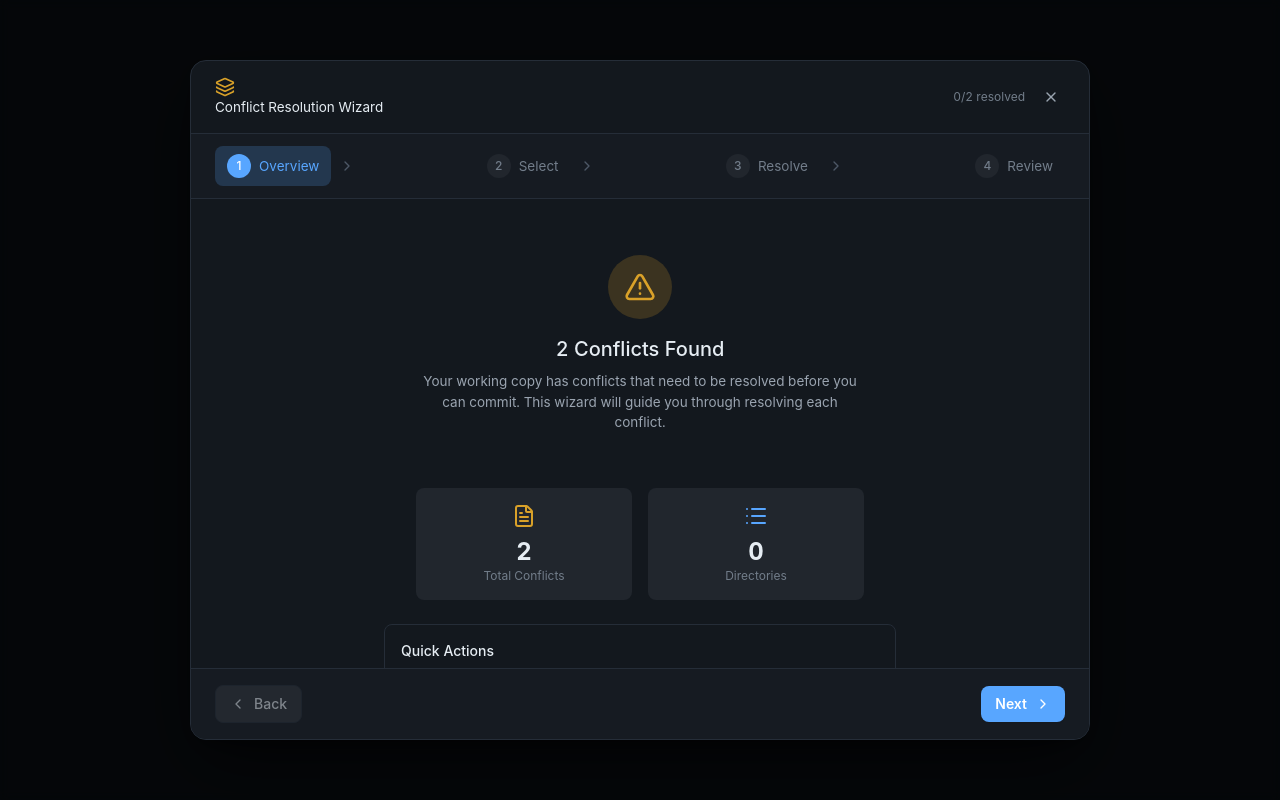
Scenario: conflict resolution workflows › defers, resumes, and navigates a coherent unresolved queue
Click the text "resolve": (783, 166) [758, 156, 808, 176]
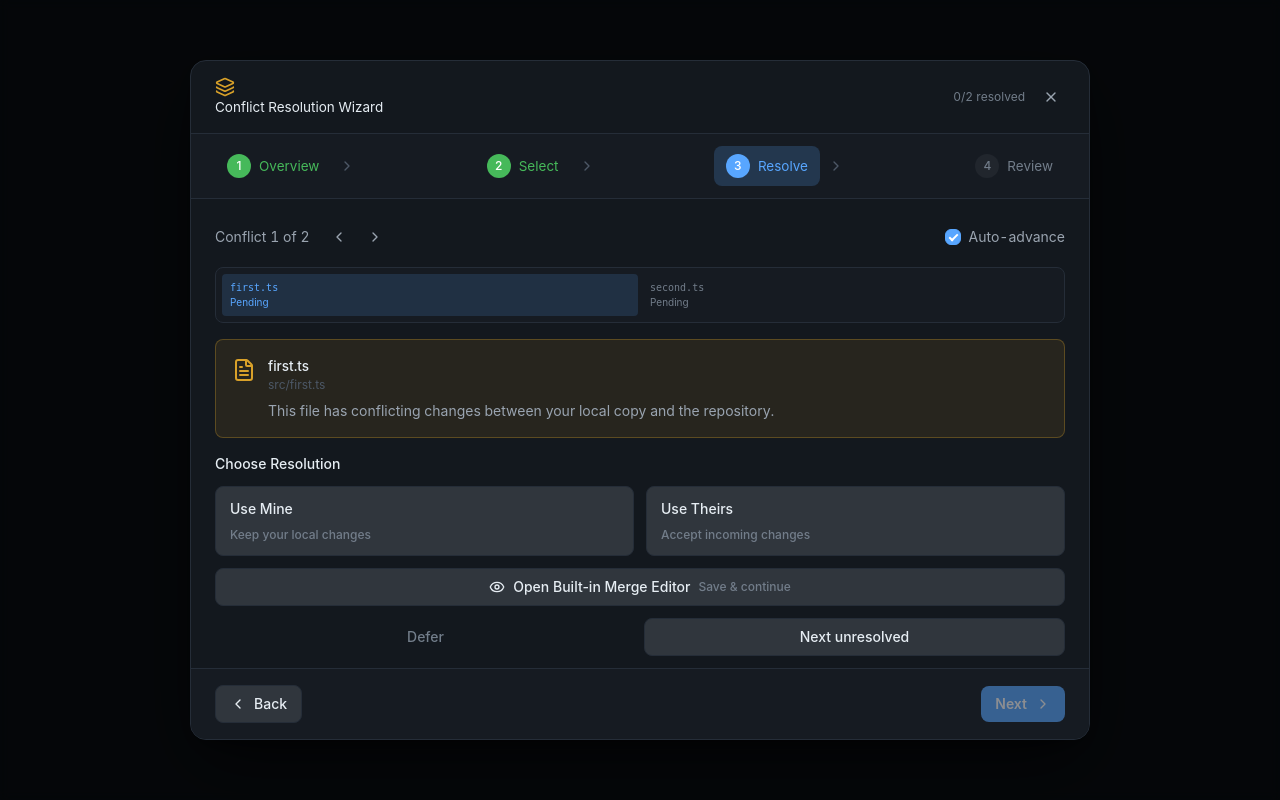
Click the button "Defer": (426, 636) [215, 618, 636, 656]
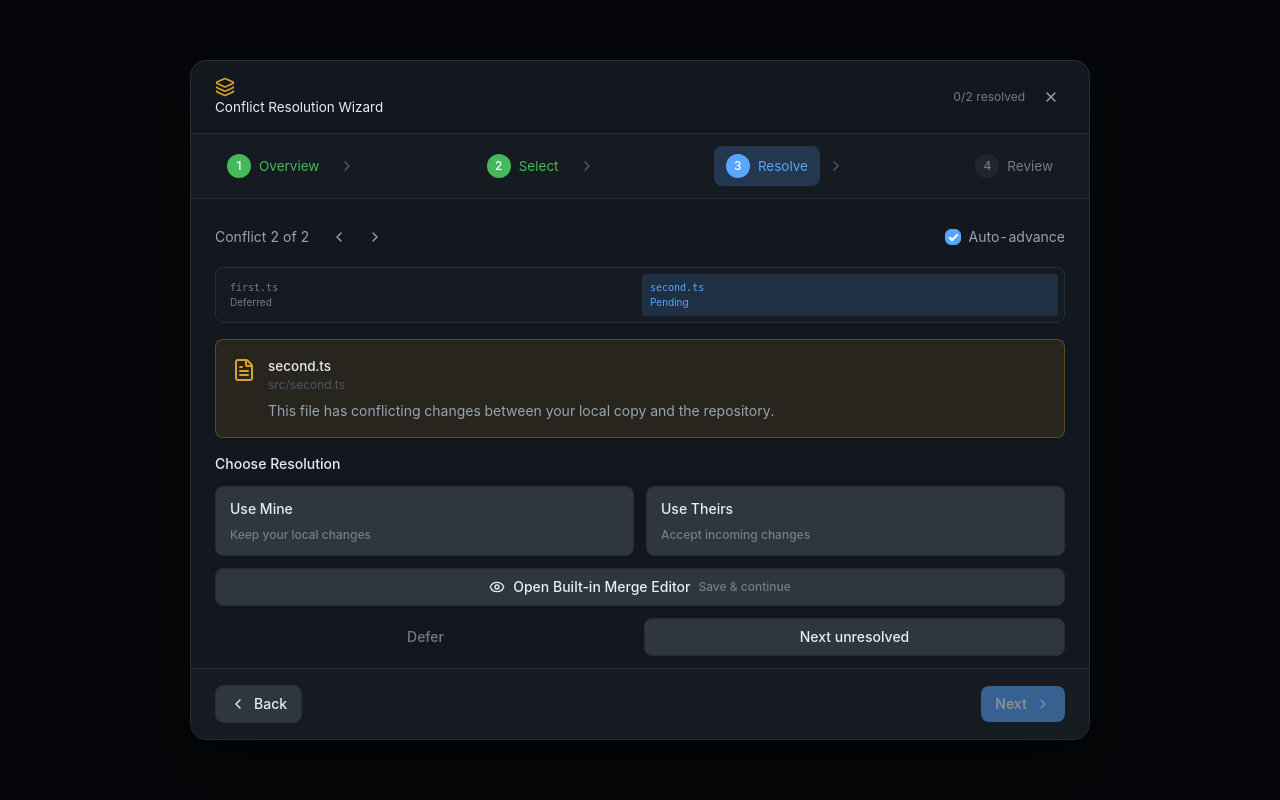
Click the text "review": (1030, 166) [1007, 156, 1053, 176]
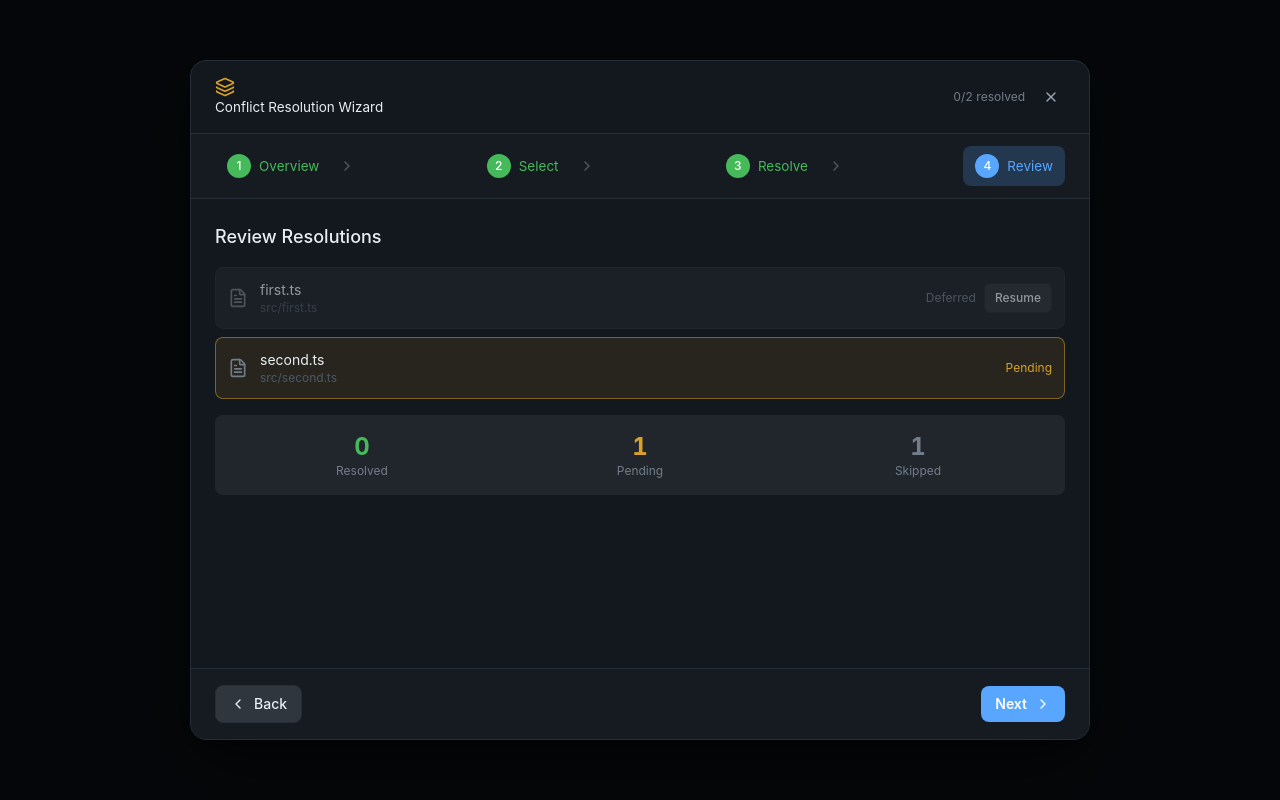
Now the text "Deferred" is shown, box [926, 290, 976, 306]
Click the button "Resume": (1018, 298) [984, 283, 1052, 313]
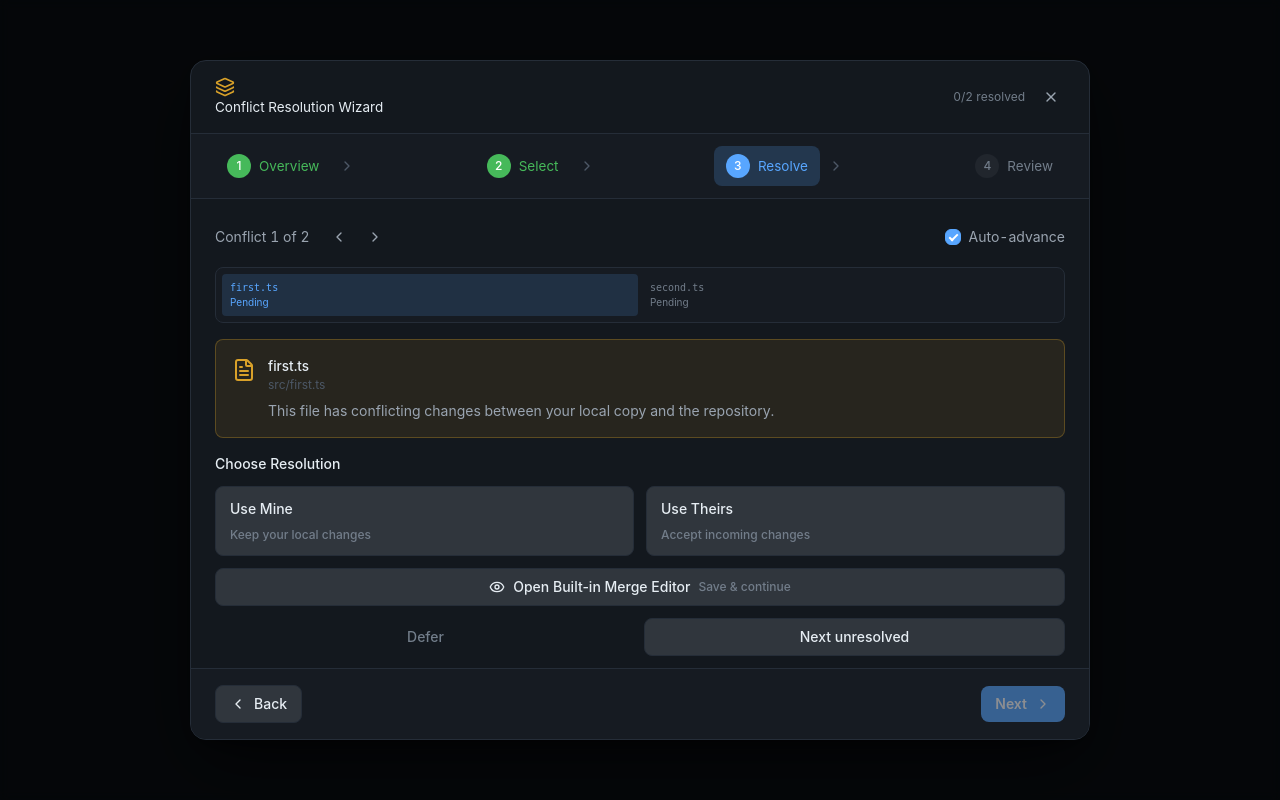
Now the text "Conflict 1 of 2" is shown, box [215, 227, 310, 247]
